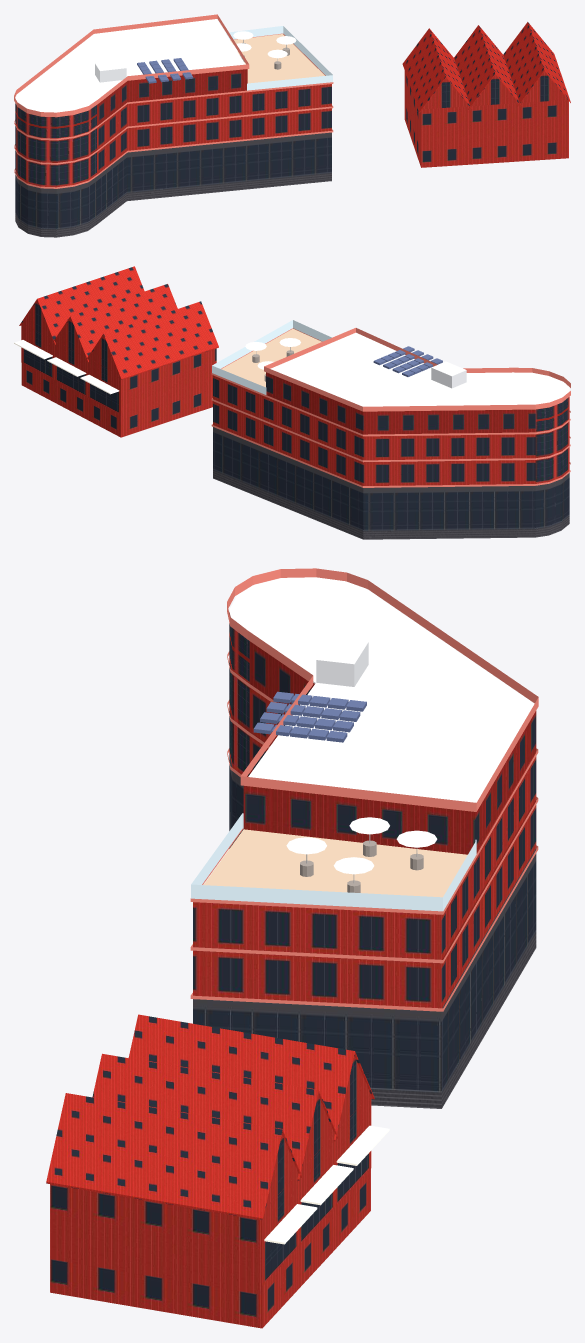
Rendered from nailers_yard.glb.
3 renders of one model, top to bottom at view 1: azimuth 30°, elevation 25°; view 2: azimuth 150°, elevation 25°; view 3: azimuth 270°, elevation 25°, orthographic. The views are drawn at different scales.
Parts seen in each view (by area): view 1: NYGround, NYMid, Hall, NYRoofSlab, HallRoof0, NYMid.001, NYBand, NYTop, NYTerrace, HallGable11, HallGable01, HallGable21 (+4 smaller); view 2: NYGround, NYMid, HallRoof0, NYRoofSlab, Hall, NYTop, NYBand, NYMid.001, NYTerrace, HallFront2, HallFront1, HallFront0 (+6 smaller); view 3: HallRoof0, NYRoofSlab, NYMid, Hall, NYGround, NYTop, NYBand, NYTerrace, NYBalustrade, NYMid.001, NYPlant, HallFront0 (+8 smaller).
Part boxes in pixels (x1,y1,x2,y2): NYGround: (15,132,331,237); NYMid: (97,84,331,174); Hall: (404,71,568,167); NYRoofSlab: (15,19,245,112); HallRoof0: (402,22,570,112); NYMid.001: (15,103,96,187); NYBand: (14,14,333,188); NYTop: (97,69,247,125); NYTerrace: (230,34,324,83); HallGable11: (472,75,518,105); HallGable01: (521,71,567,102); HallGable21: (422,78,468,109); NYGround: (213,427,569,539); NYMid: (213,375,535,485); HallRoof0: (19,266,218,379); NYRoofSlab: (270,332,569,406); Hall: (21,348,216,437); NYTop: (266,372,535,434); NYBand: (211,328,570,487); NYMid.001: (535,397,569,483); NYTerrace: (221,329,321,387); HallFront2: (87,358,120,414); HallFront1: (54,341,87,397); HallFront0: (21,323,54,379); HallRoof0: (46,1014,374,1219); NYRoofSlab: (229,577,534,802); NYMid: (193,687,536,1008); Hall: (50,1169,370,1328); NYGround: (193,754,536,1108); NYTop: (243,641,536,854); NYBand: (190,568,538,1011); NYTerrace: (203,829,467,897); NYBalustrade: (191,884,442,911); NYMid.001: (229,612,249,776); NYPlant: (316,637,368,686); HallFront0: (262,1173,298,1285).
Bounding box in the file's own units: 76.84 × 18.65 × 31.29.
58 materials, 15 textured.
